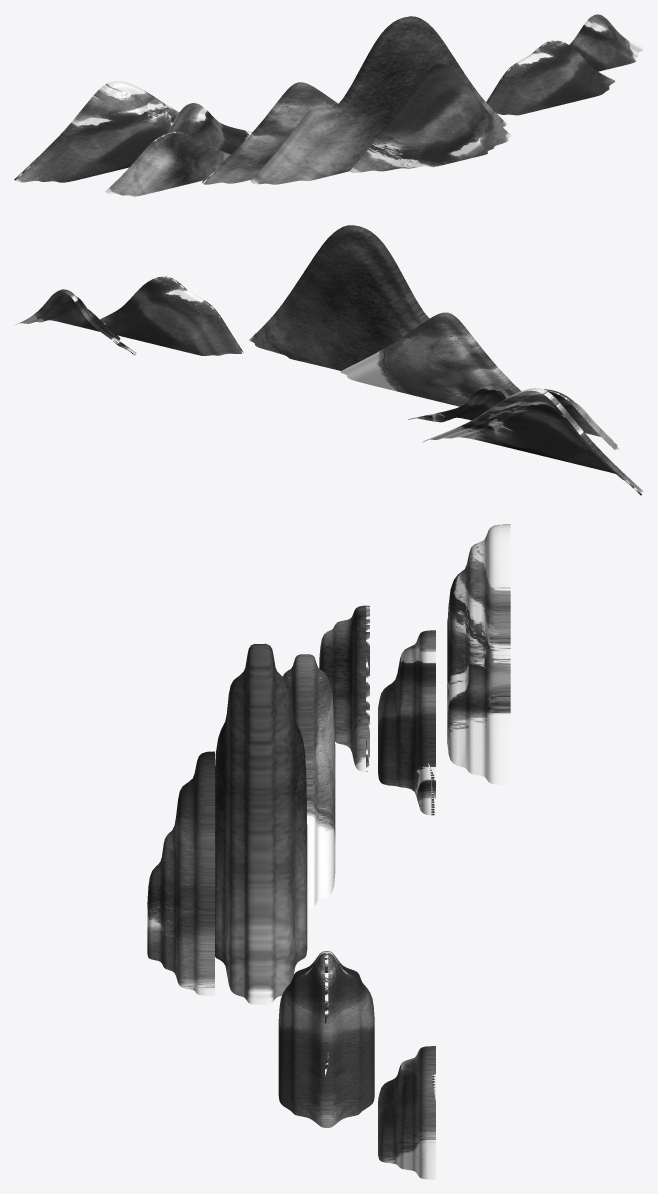
Rendered from SM_SUMountain3.fbx.
3 views of the same model, one above another, from view 1: azimuth 30°, elevation 25°; view 2: azimuth 150°, elevation 25°; view 3: azimuth 270°, elevation 25° (orthographic). The views are drawn at different scales.
Parts seen in each view (by area): view 1: G_1_007, G_1_006, G_1_010, G_1_013, G_1_009, G_1_012, Component2, Component1; view 2: G_1_007, G_1_012, G_1_010, G_1_013, Component2, Component1, G_1_009; view 3: G_1_007, G_1_010, G_1_013, G_1_006, Component1, G_1_012, Component2, G_1_009.
Boxes of the visible parts, x1,y1,x2,y2 form: G_1_007: (250, 16, 507, 184); G_1_006: (350, 64, 511, 172); G_1_010: (14, 80, 179, 182); G_1_013: (486, 40, 615, 115); G_1_009: (105, 132, 230, 196); G_1_012: (202, 82, 337, 184); Component2: (569, 14, 643, 71); Component1: (166, 103, 252, 154); G_1_007: (249, 225, 429, 370); G_1_012: (340, 312, 520, 406); G_1_010: (422, 388, 643, 495); G_1_013: (100, 276, 243, 355); Component2: (15, 289, 136, 355); Component1: (408, 383, 509, 422); G_1_009: (544, 389, 621, 453); G_1_007: (215, 643, 307, 1004); G_1_010: (447, 524, 510, 784); G_1_013: (278, 951, 374, 1127); G_1_006: (147, 751, 214, 995); Component1: (378, 630, 435, 815); G_1_012: (283, 654, 335, 907); Component2: (378, 1046, 435, 1179); G_1_009: (319, 605, 369, 771).
Bounding box in the file's own units: 66.71 × 13.53 × 17.23.
